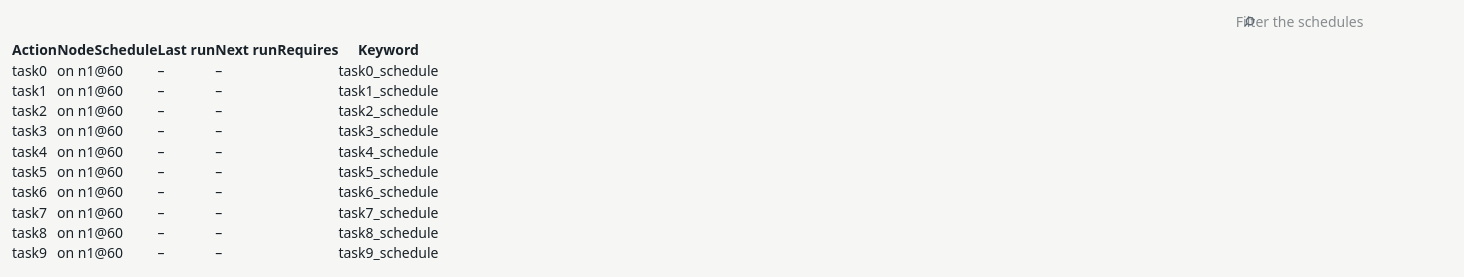
ObjectTabs › schedules › a long list is filtered
The image size is (1464, 277).
In the search field labelled "Filter the schedules": (1344, 22) [1236, 12, 1452, 32], type "task7"
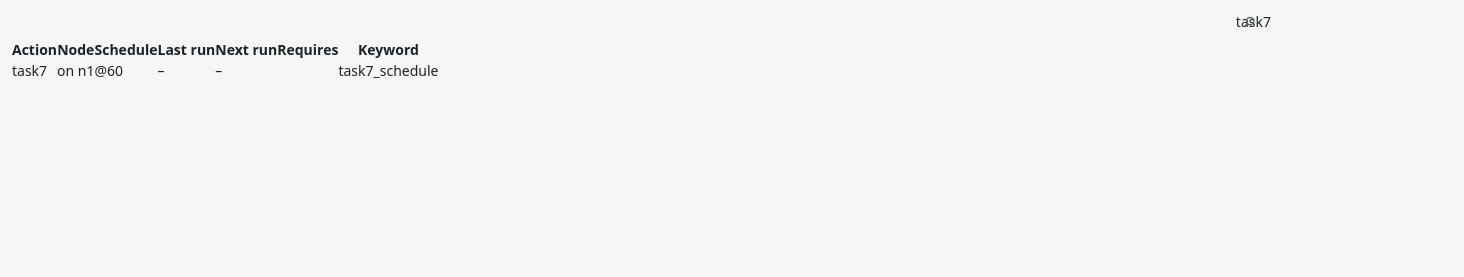
expect the number of rows is 2: met, box [12, 40, 438, 61]; [12, 61, 438, 81]
